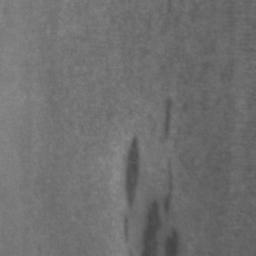Inclusion: (142, 201, 163, 256), (127, 138, 140, 207), (165, 229, 180, 256), (166, 100, 173, 131)
